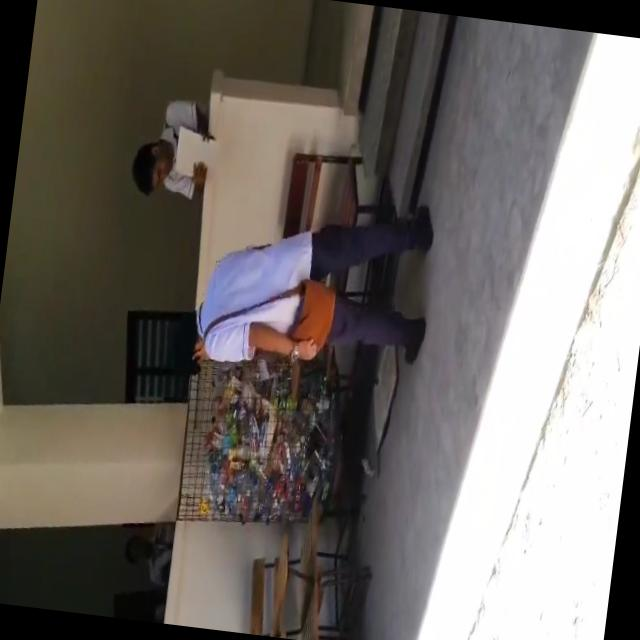Bottle: (360, 454, 378, 477)
